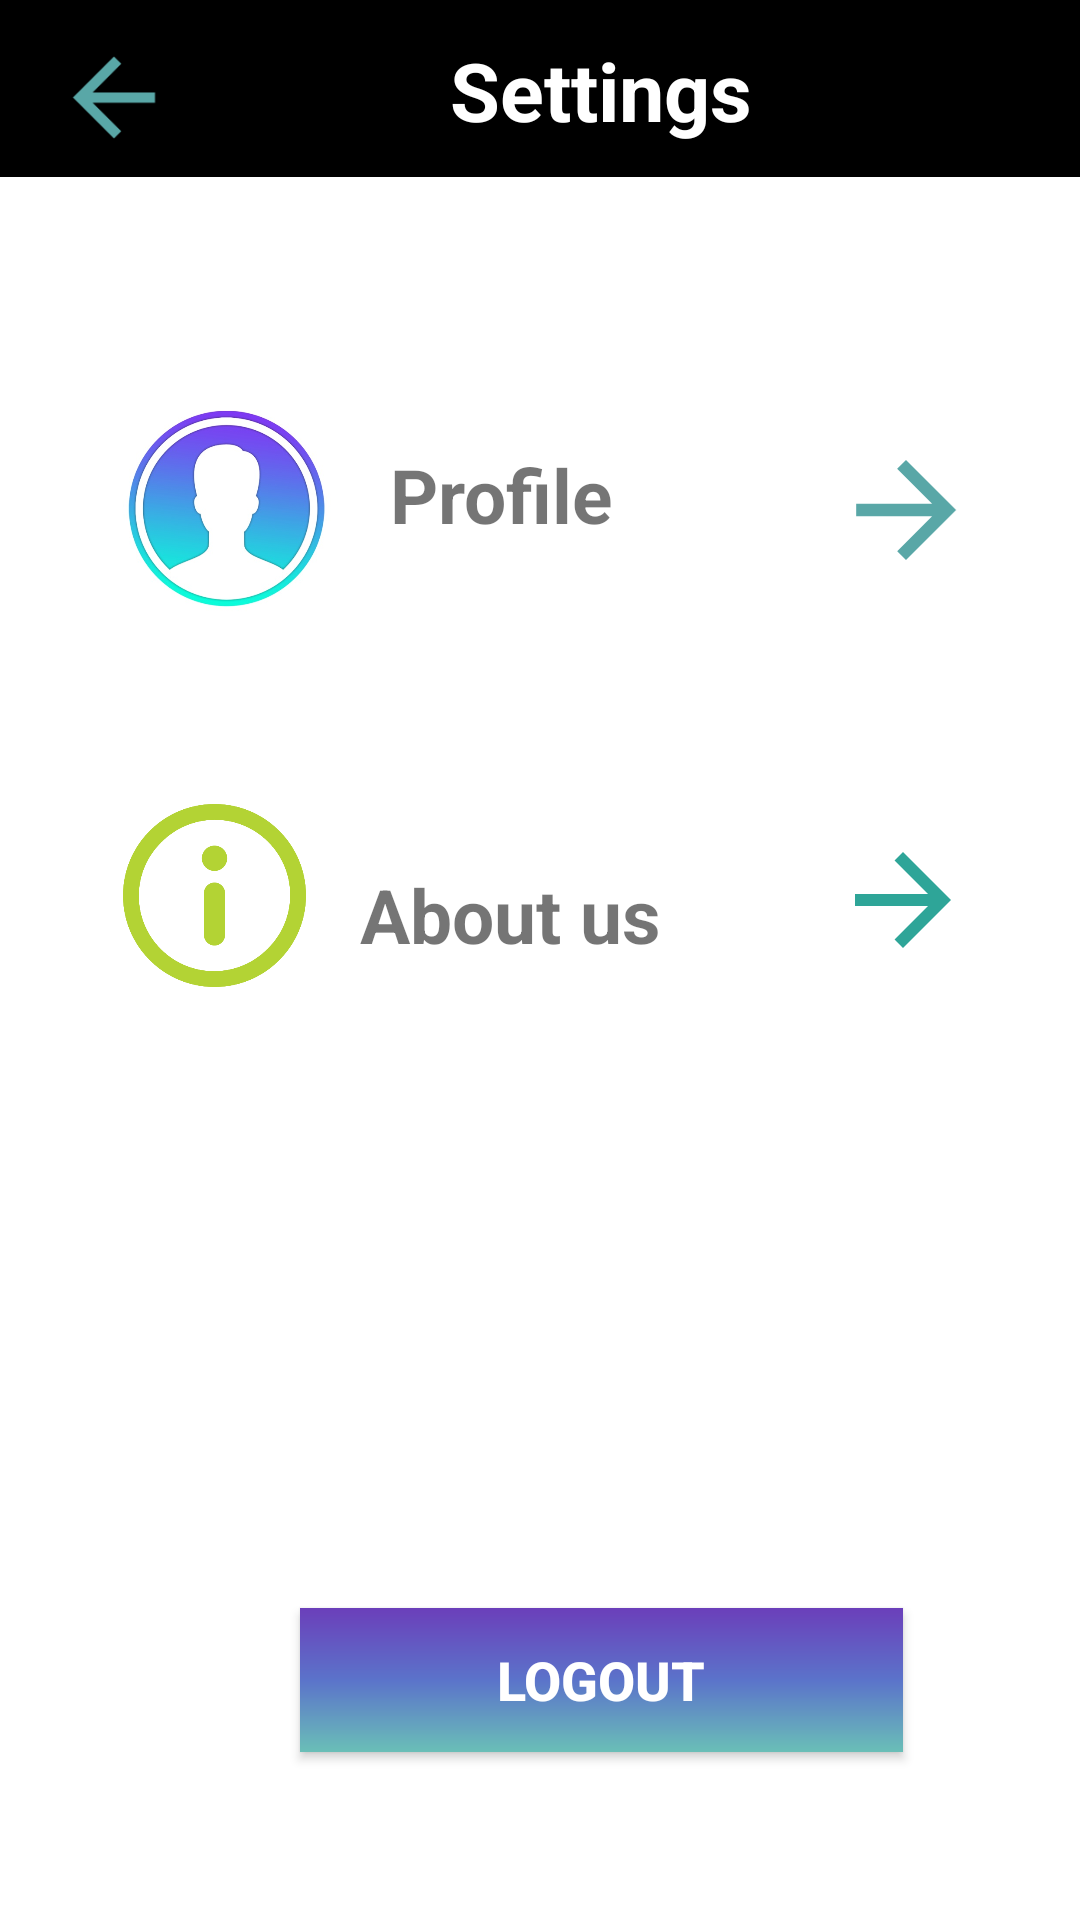

Screen size 1080px x 1920px. Icon name, then its center in pixels as (x=x, y=y):
iconinfo: (x=214, y=895)
